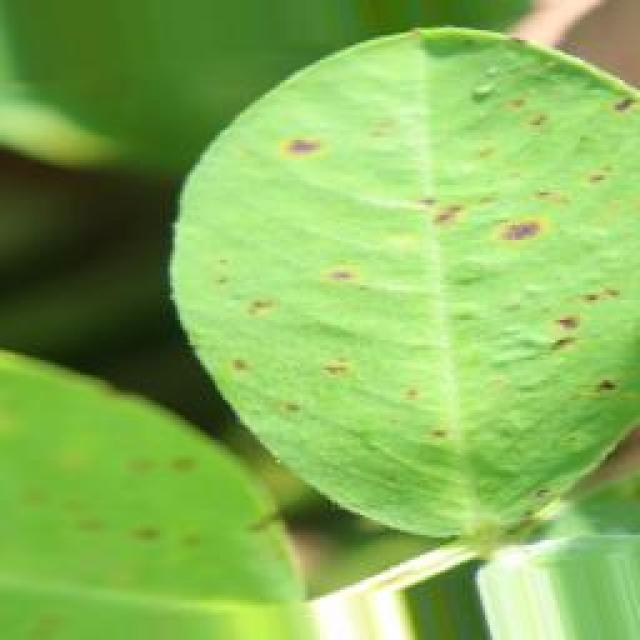Sigatoka: (407, 77, 640, 444), (226, 104, 414, 466)
